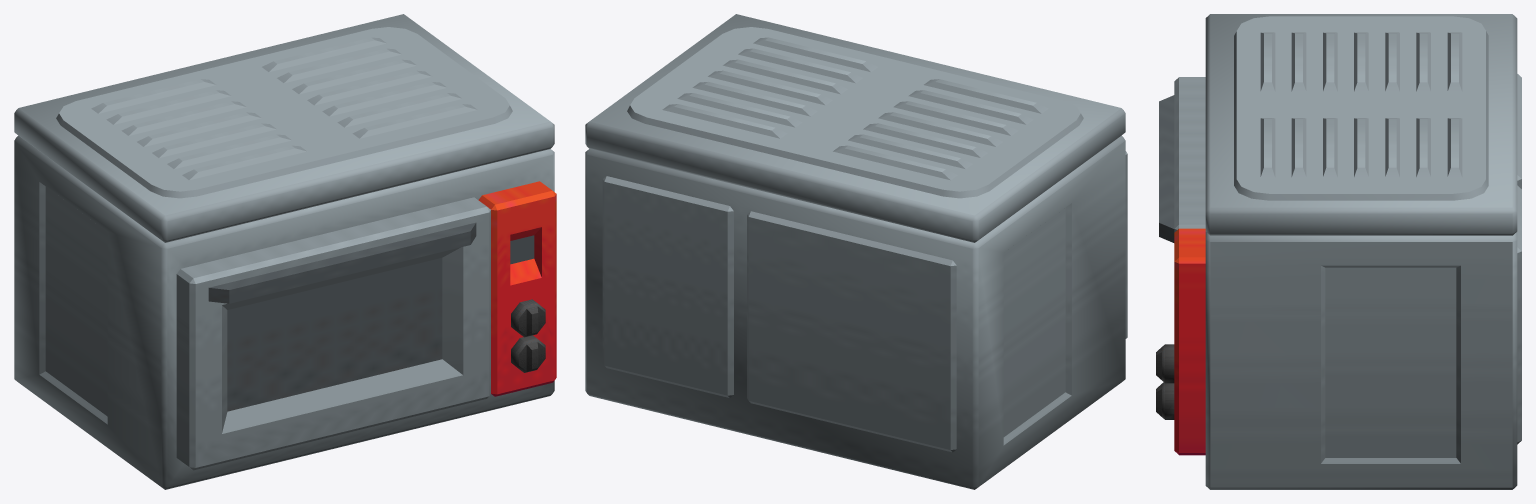
Rendered from pizza_oven.gltf.
3 views of the same model, side by side, from view 1: azimuth 30°, elevation 25°; view 2: azimuth 150°, elevation 25°; view 3: azimuth 270°, elevation 25° (orthographic). The views are drawn at different scales.
Visible parts, largest first — view 1: pizza_oven, pizza_oven_door; view 2: pizza_oven; view 3: pizza_oven, pizza_oven_door.
Boxes of the visible parts, left/top/right/bottom form: pizza_oven: left=14, top=14, right=556, bottom=489; pizza_oven_door: left=176, top=197, right=490, bottom=470; pizza_oven: left=585, top=14, right=1125, bottom=489; pizza_oven: left=1156, top=14, right=1521, bottom=489; pizza_oven_door: left=1159, top=77, right=1205, bottom=242.
Size of the model in its own units: 3 by 2.07 by 2.35.
1 material, 1 textured.
